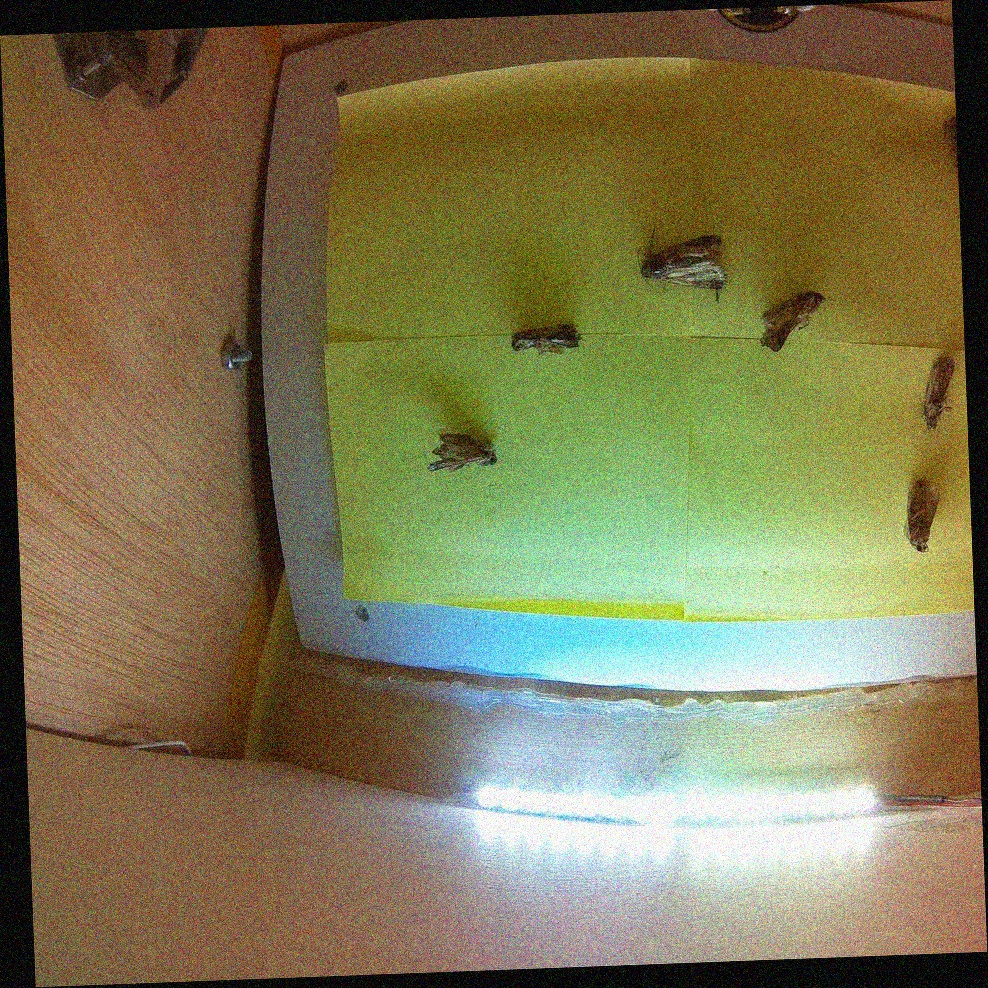Spodoptera litura: (638, 223, 727, 307), (758, 290, 827, 352), (426, 430, 500, 474), (920, 357, 958, 431), (906, 479, 943, 553), (510, 324, 584, 356)
